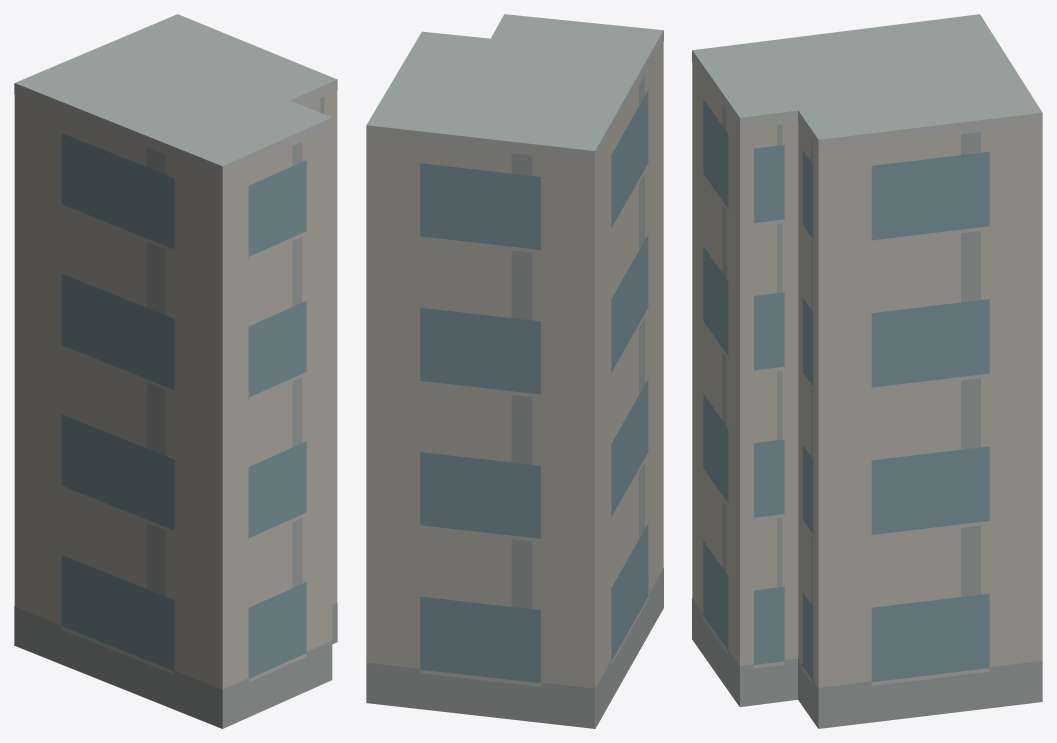
Rendered from survey-upis-32946567.glb.
3 renders of one model, left to right at view 1: azimuth 30°, elevation 25°; view 2: azimuth 150°, elevation 25°; view 3: azimuth 270°, elevation 25°, orthographic. The views are drawn at different scales.
Parts seen in each view (by area): view 1: survey-upis-32946567.tmp; view 2: survey-upis-32946567.tmp; view 3: survey-upis-32946567.tmp.
Boxes of the visible parts, x1,y1,x2,y2 form: survey-upis-32946567.tmp: (14,14,337,728); survey-upis-32946567.tmp: (366,14,663,728); survey-upis-32946567.tmp: (692,14,1042,728).
Size of the model in its own units: 5.59 by 12.2 by 6.58.
